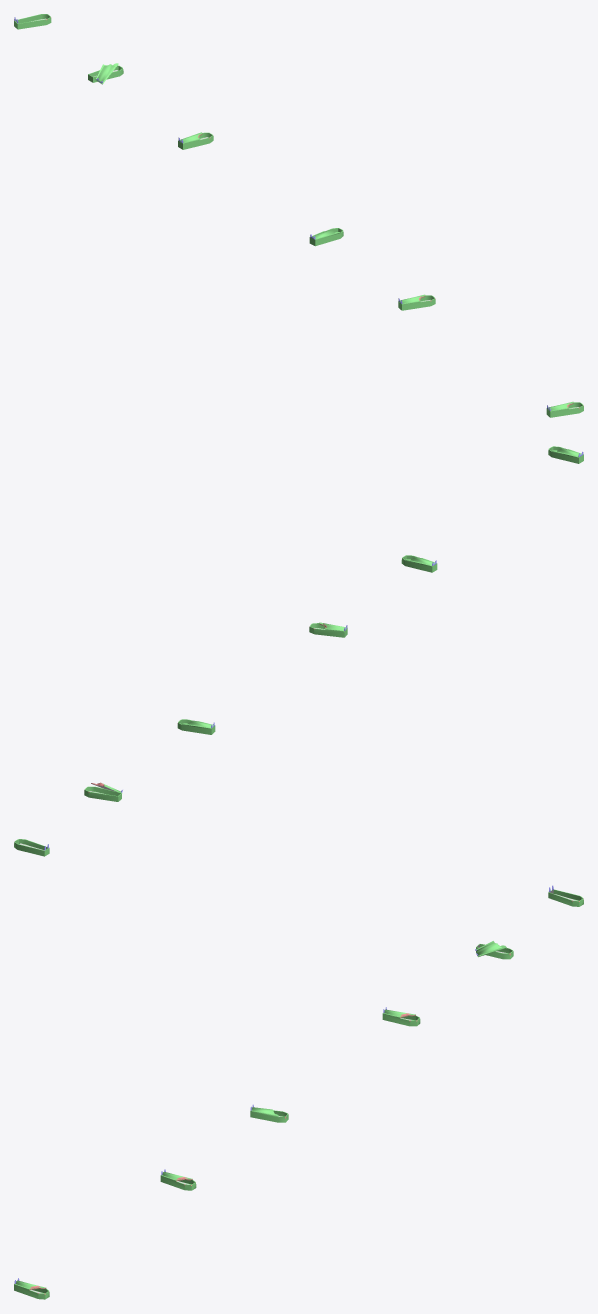
Rendered from SSQ_coffin_Bset.gltf.
3 views of the same model, one above another, from view 1: azimuth 30°, elevation 25°; view 2: azimuth 150°, elevation 25°; view 3: azimuth 330°, elevation 25° (orthographic).
Parts seen in each view (by area): view 1: SSQ_coffin_Bset; view 2: SSQ_coffin_Bset; view 3: SSQ_coffin_Bset.
Part boxes in pixels (box(x1,y1,x2,y2)): SSQ_coffin_Bset: box(14, 14, 583, 417); SSQ_coffin_Bset: box(14, 446, 583, 856); SSQ_coffin_Bset: box(14, 885, 583, 1299).
Bounding box in the file's own units: 0.6901 × 0.2507 × 18.57.
